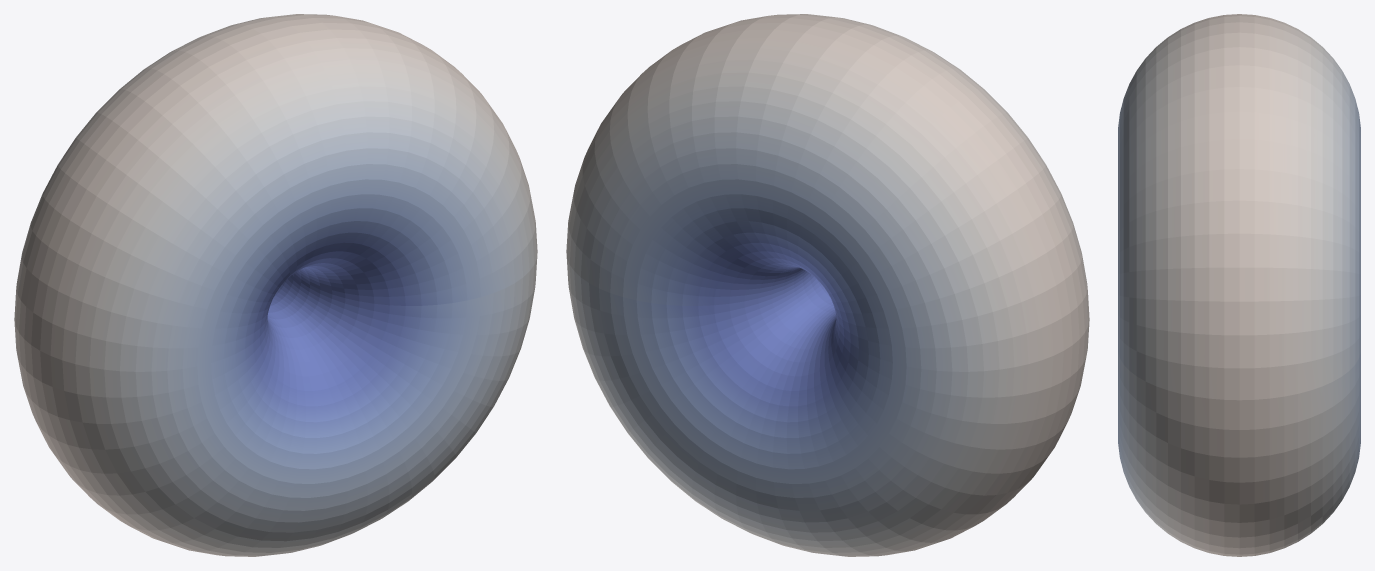
3 views of the same model, side by side, from view 1: azimuth 30°, elevation 25°; view 2: azimuth 150°, elevation 25°; view 3: azimuth 270°, elevation 25° (orthographic). The views are drawn at different scales.
Parts seen in each view (by area): view 1: world; view 2: world; view 3: world.
Boxes of the visible parts, box(x1,y1,x2,y2) form: world: box(14, 14, 537, 556); world: box(566, 14, 1089, 556); world: box(1118, 14, 1360, 556).
Size of the model in its own units: 19.33 by 19.3 by 8.65.
